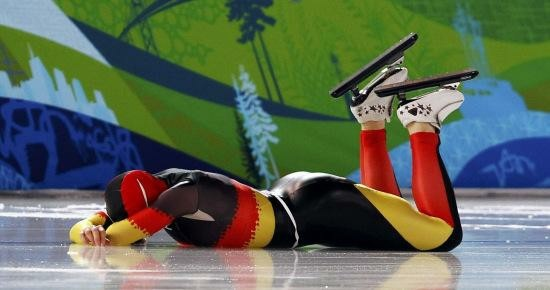falling: (70, 32, 483, 255)
